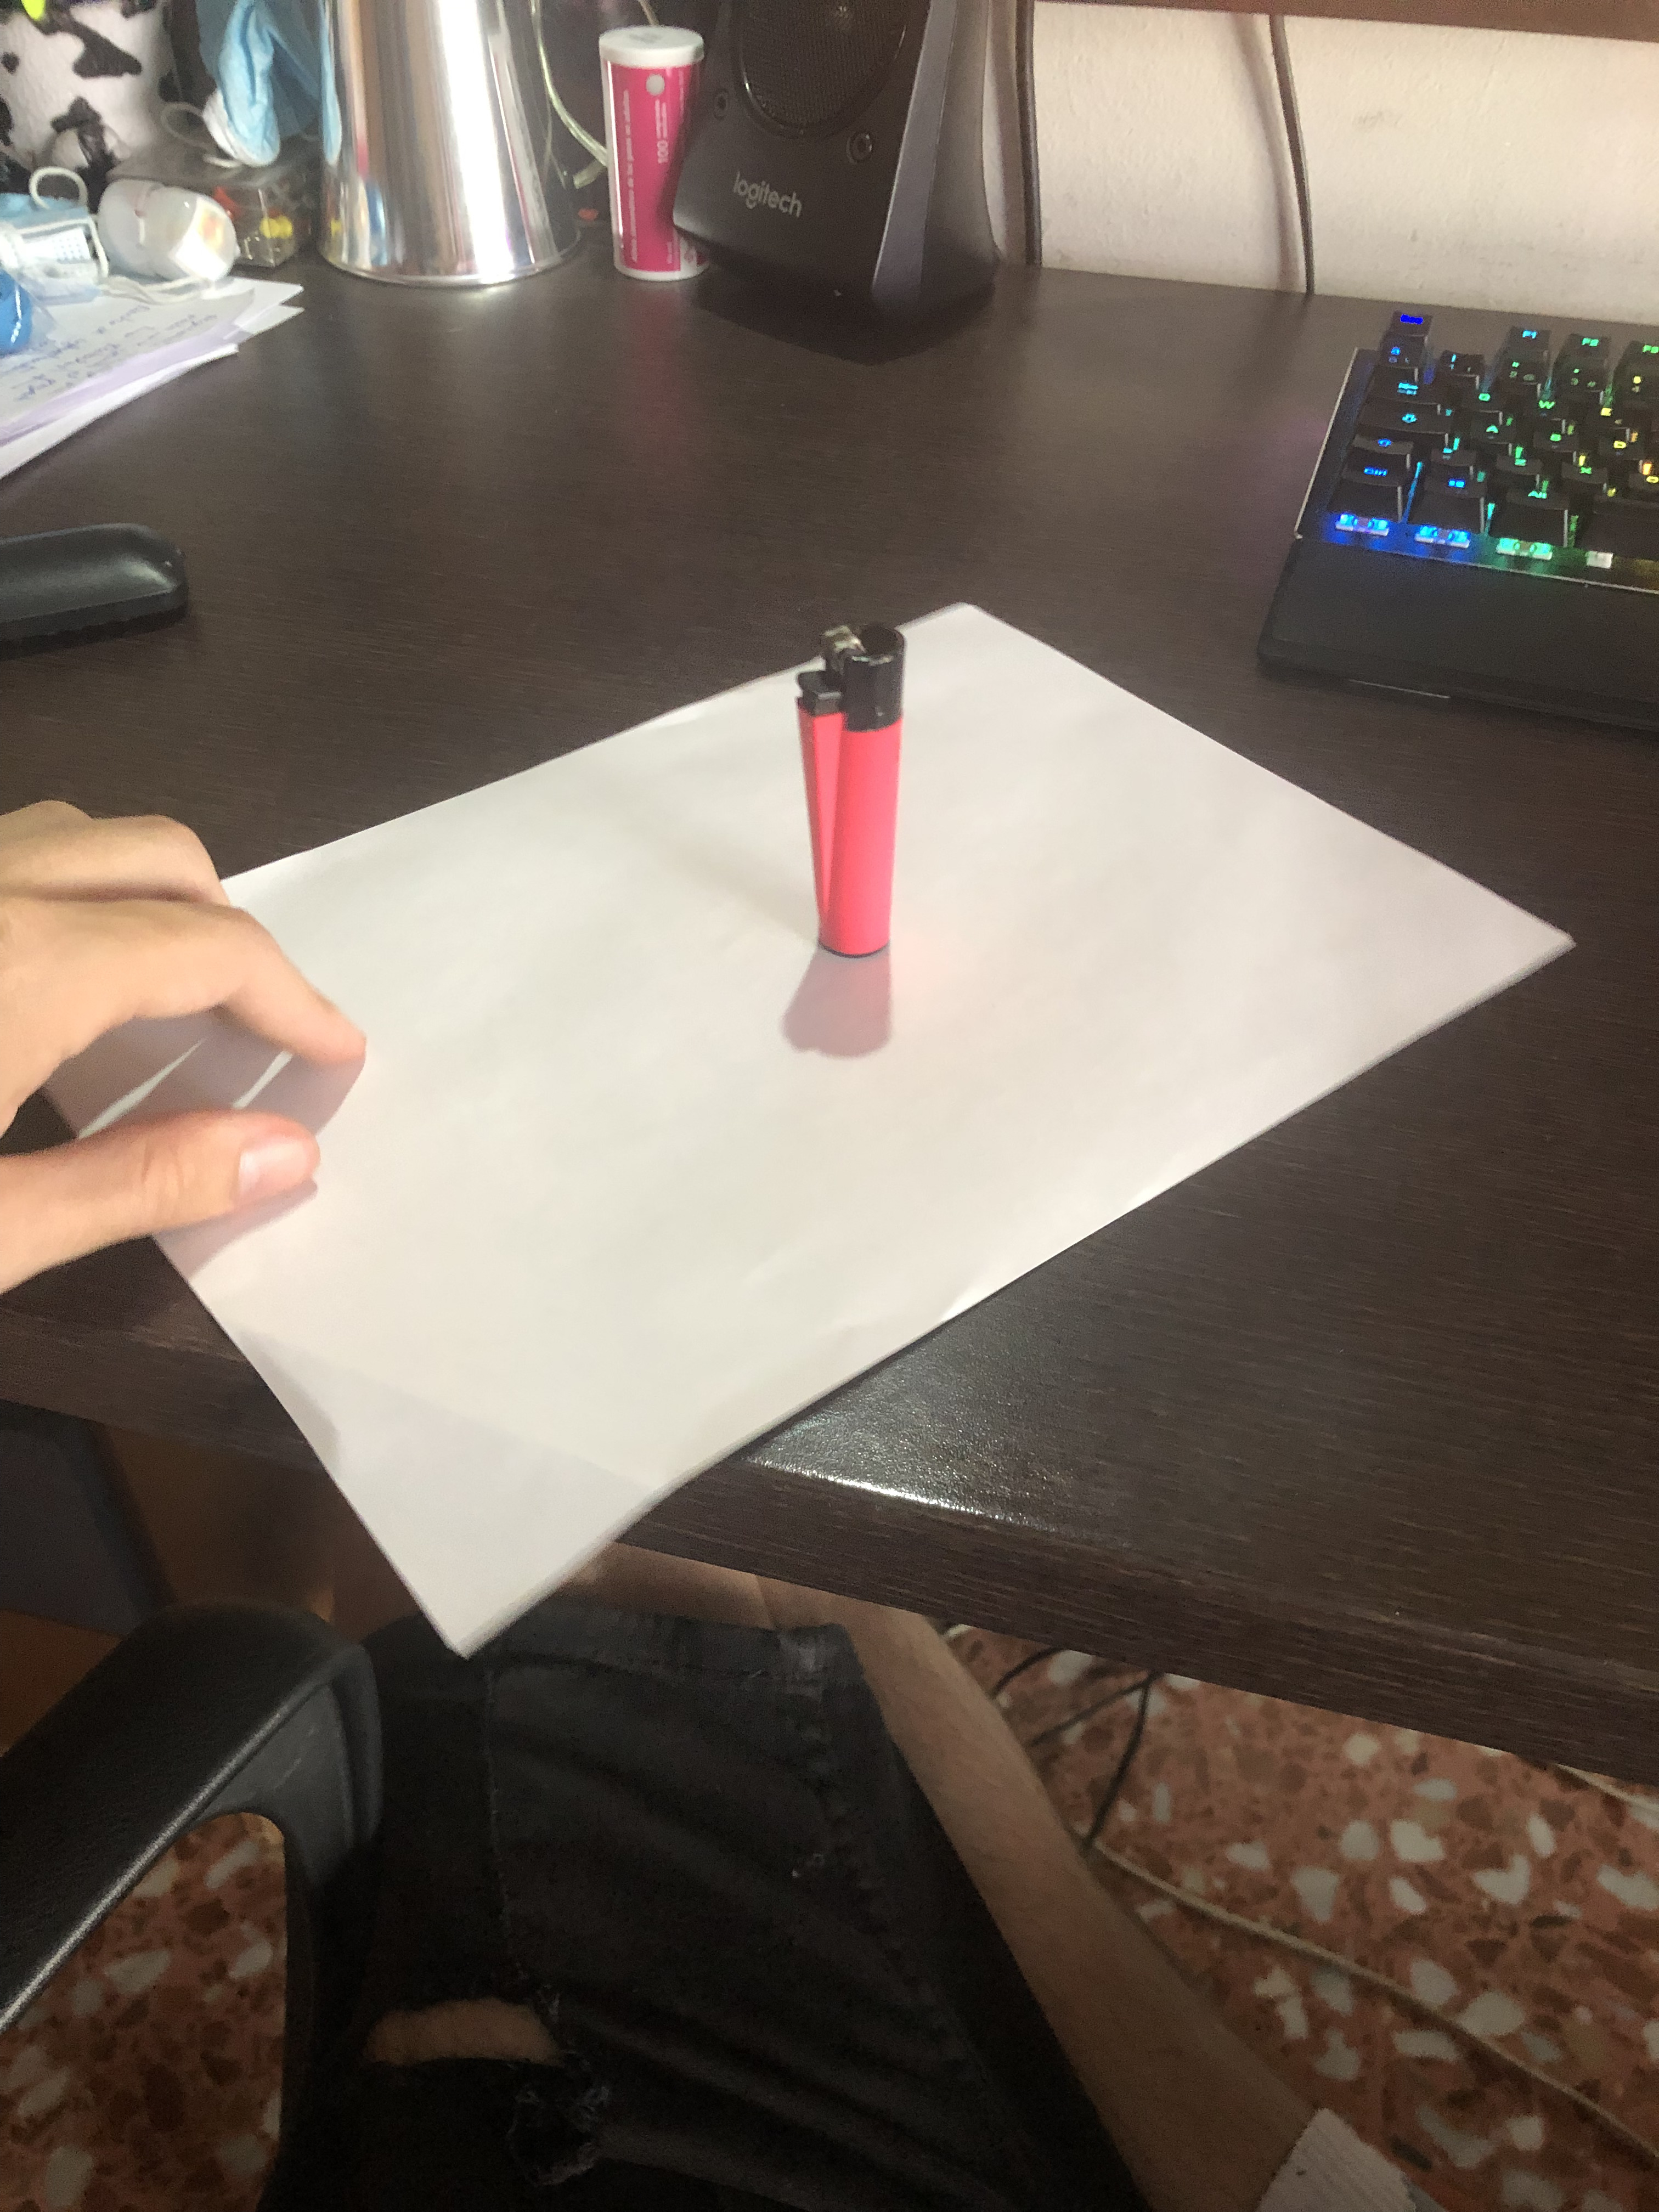Mechero: (793, 594, 911, 998)
